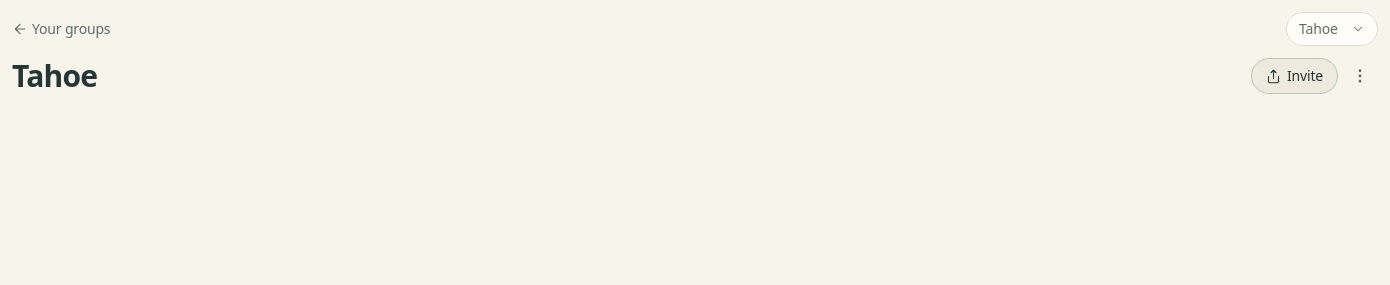
what a member is offered › gets the things that are theirs to do
Click the button named "Group options" at (1360, 76), box [1342, 58, 1378, 94]
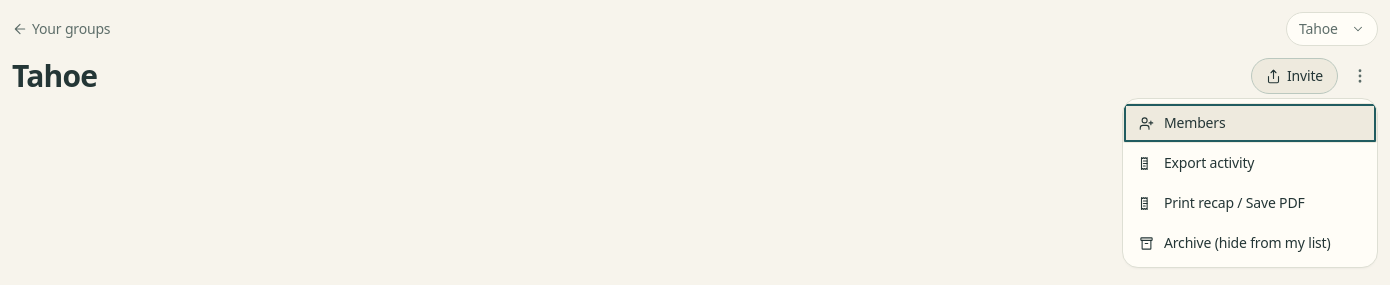
Expected: the menu item "Export activity" is shown, [1123, 143, 1377, 183]
Expected: the menu item "Archive (hide from my list)" is shown, [1123, 223, 1377, 263]
